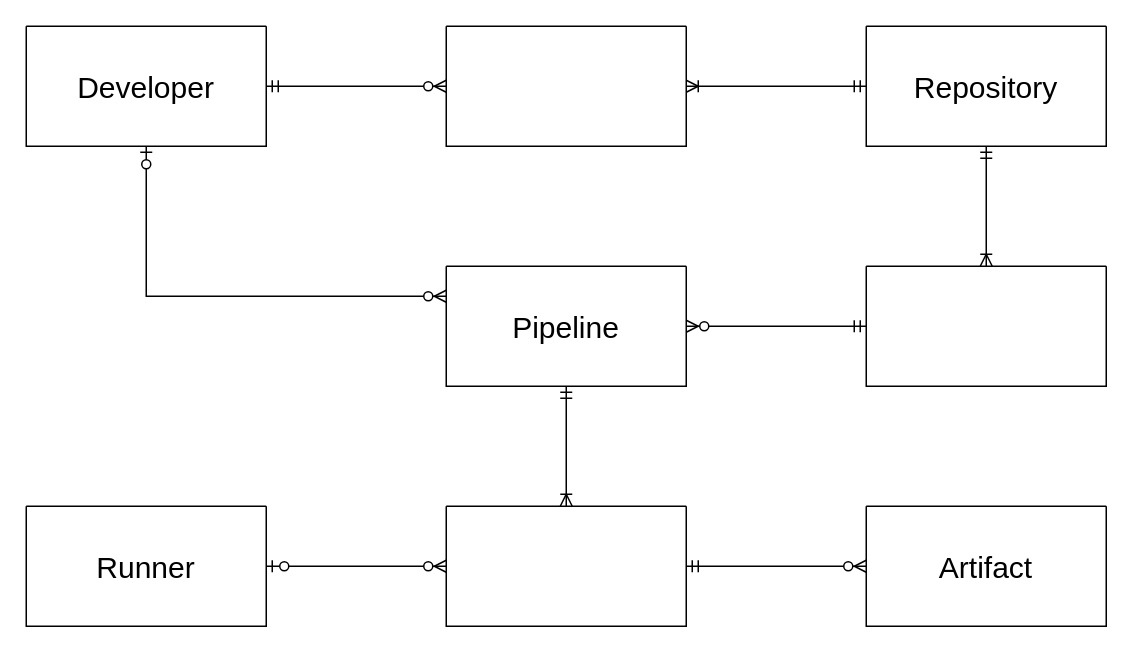
Some shapes in this 1133 by 653 pixel diagram are drawn without their labels. Here are the shapes that lost their labels. From the top down, the box of each, then its label:
(445, 25, 686, 146): Repository Collaborator
(865, 265, 1106, 386): Branch
(445, 505, 686, 626): Job
